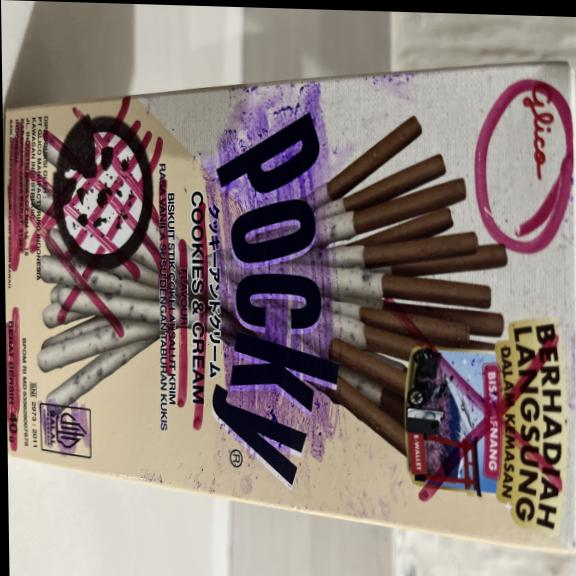Kertas: (1, 42, 576, 556)
